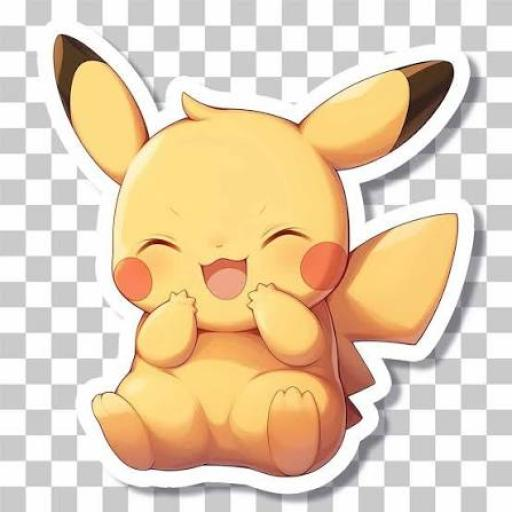Pikachu: (52, 33, 459, 478)
